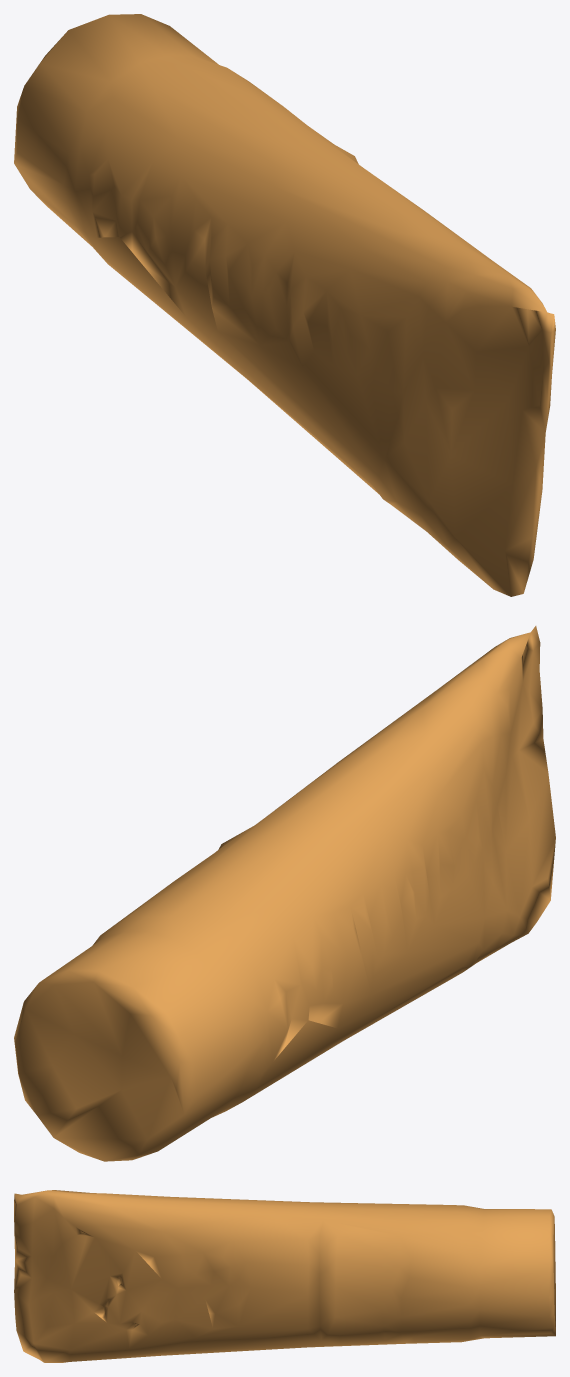
The picture shows the model from 3 angles, top to bottom: view 1: azimuth 30°, elevation 25°; view 2: azimuth 150°, elevation 25°; view 3: azimuth 270°, elevation 25°; orthographic projection. The views are drawn at different scales.
Parts seen in each view (by area): view 1: Toothpaste_800_tex_019; view 2: Toothpaste_800_tex_019; view 3: Toothpaste_800_tex_019.
Boxes of the visible parts, <box> form: Toothpaste_800_tex_019: <box>14,14,555,596</box>; Toothpaste_800_tex_019: <box>14,626,555,1161</box>; Toothpaste_800_tex_019: <box>14,1190,555,1362</box>.
Bounding box in the file's own units: 0.0311 × 0.1241 × 0.045.
